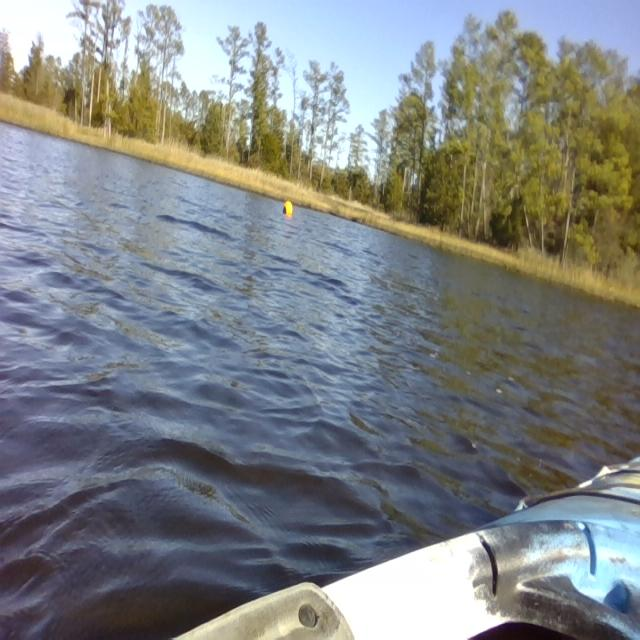Buoy: (280, 197, 295, 220)
